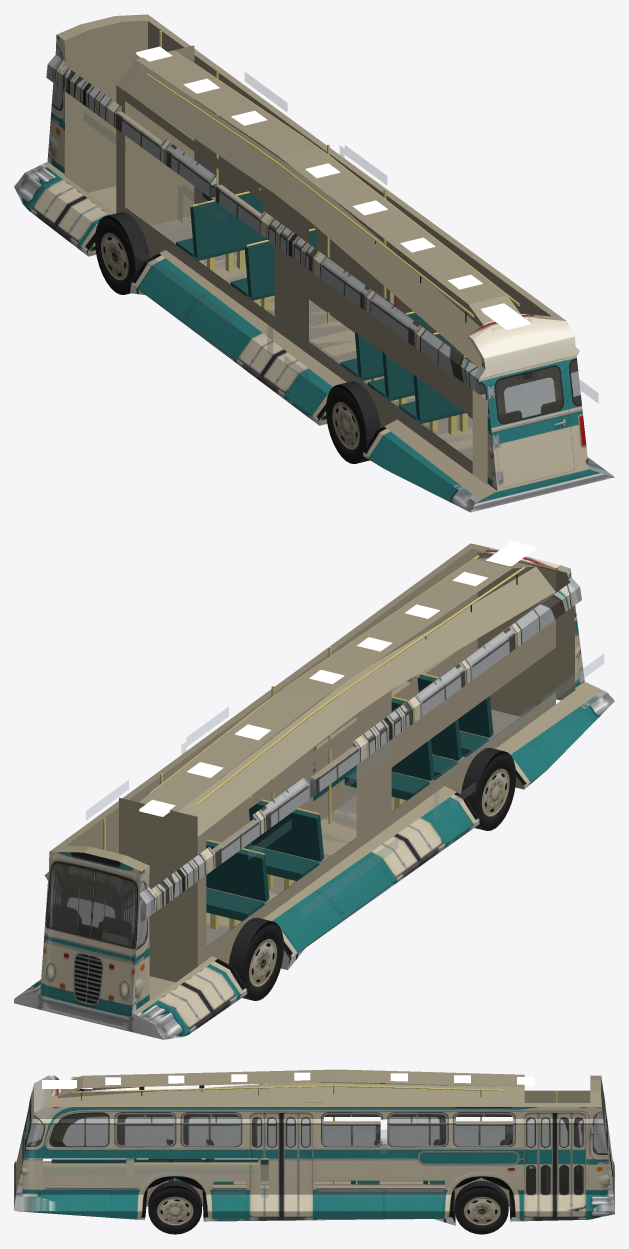
File: transit_bus.glb
The picture shows the model from 3 angles, top to bottom: view 1: azimuth 30°, elevation 25°; view 2: azimuth 150°, elevation 25°; view 3: azimuth 270°, elevation 25°; orthographic projection. The views are drawn at different scales.
Parts seen in each view (by area): view 1: transit_bus, transit_bus_interior, wheel_BL, wheel_FL; view 2: transit_bus_interior, transit_bus, wheel_FL, wheel_BL; view 3: transit_bus, transit_bus_interior, wheel_BR, wheel_FR.
Part boxes in pixels (x1,y1,x2,y2): transit_bus: (14,14,614,512); transit_bus_interior: (83,31,598,484); wheel_BL: (326,381,380,463); wheel_FL: (95,212,149,294); transit_bus_interior: (86,541,603,982); transit_bus: (14,543,614,1039); wheel_FL: (229,917,283,1000); wheel_BL: (461,747,516,830); transit_bus: (14,1075,614,1225); transit_bus_interior: (42,1069,557,1206); wheel_BR: (148,1181,201,1234); wheel_FR: (455,1181,508,1234).
Size of the model in its own units: 2.47 by 2.98 by 11.99.
Materials: 10 (1 with a texture image).
